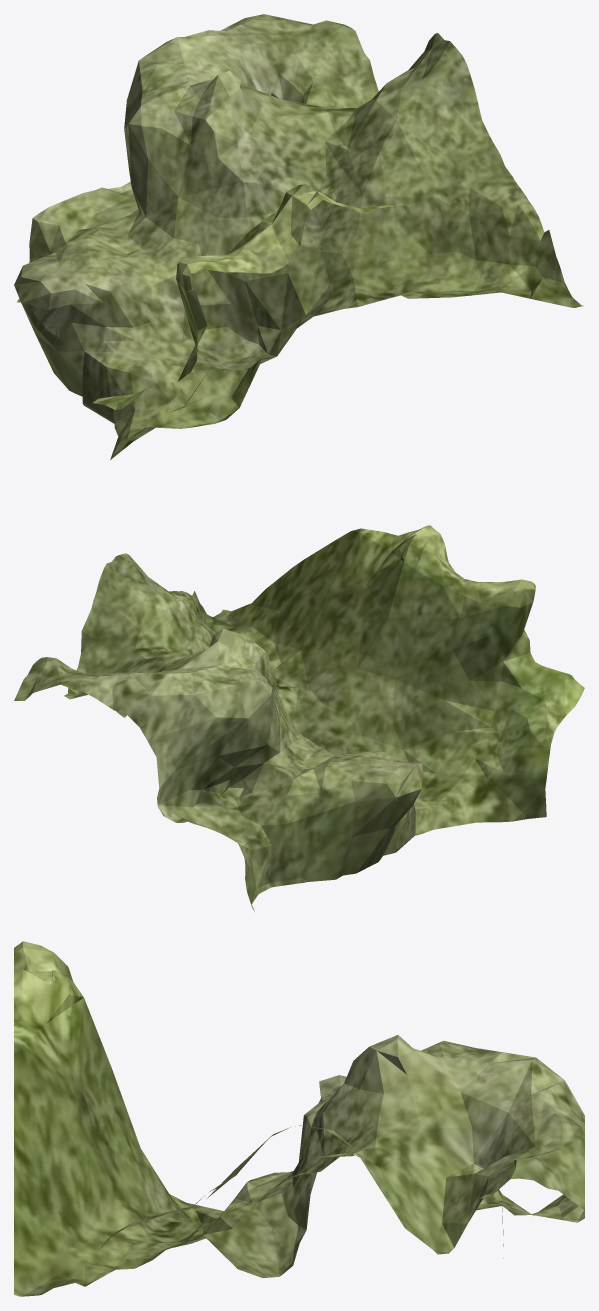
The picture shows the model from 3 angles, top to bottom: view 1: azimuth 30°, elevation 25°; view 2: azimuth 150°, elevation 25°; view 3: azimuth 270°, elevation 25°; orthographic projection. The views are drawn at different scales.
Size of the model in its own units: 2.95 by 1.78 by 2.95.
4 materials, 4 textured.
